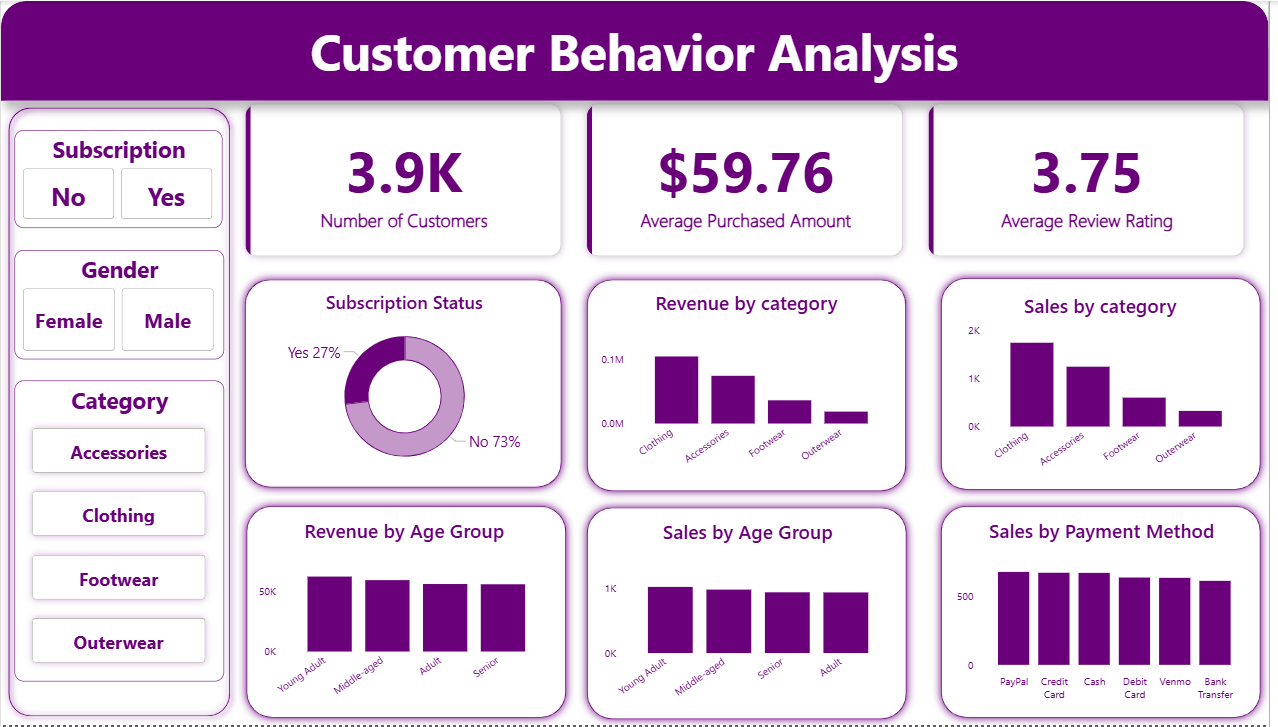

What the dashboard file says about the page in this screenshot:
{"tool":"powerbi","page":{"name":"Page 1","canvas":[1500,856],"ordinal":0},"visuals":[{"type":"cardVisual","fields":{"Data":["public customer.no_of_customer","public customer.Average Purchased Amount","public customer.Average Review Rating"]},"box":[261,93.4,1238.4,236.2],"z":0},{"type":"shape","box":[278.2,320.1,394.6,266.1],"z":0,"group":"g1"},{"type":"group","id":"g1","title":"Group 1","box":[278.2,320.1,394.6,266.1],"z":1000},{"type":"donutChart","title":"Subscription Status","fields":{"Category":["public customer.subscription_status"],"Y":["CountNonNull(public customer.customer_id)"]},"box":[298.9,340.9,354.4,224.8],"z":1000,"group":"g1"},{"type":"shape","box":[0,0,1499.4,118.1],"z":2000},{"type":"group","id":"g2","title":"Group 2","box":[684,320.1,396.3,270.5],"z":3000},{"type":"shape","box":[684,320.1,397.7,270.5],"z":3000,"group":"g2"},{"type":"shape","box":[280.1,586.8,398.2,270.5],"z":4000},{"type":"textbox","box":[322,13.3,855.4,91.4],"z":5000},{"type":"clusteredColumnChart","title":"Revenue by category","fields":{"Y":["Sum(public customer.purchase_amount)"],"Category":["public customer.category"]},"box":[704.6,341.1,354.5,224.8],"z":5000,"group":"g2"},{"type":"shape","box":[1101.2,318.2,398.2,270.5],"z":6000},{"type":"clusteredColumnChart","title":"Revenue by Age Group","fields":{"Y":["Sum(public customer.purchase_amount)"],"Category":["public customer.age_group"]},"box":[299.1,609.7,354.4,224.8],"z":7000},{"type":"shape","box":[0,118,280,738],"z":8000},{"type":"clusteredColumnChart","title":"Sales by category","fields":{"Y":["Count(public customer.customer_id)"],"Category":["public customer.category"]},"box":[1124.1,344.8,354.4,224.8],"z":9000},{"type":"advancedSlicerVisual","title":"Subscription","fields":{"Values":["public customer.subscription_status"]},"box":[15.2,152.4,245.8,116.2],"z":10000},{"type":"advancedSlicerVisual","title":"Gender","fields":{"Values":["public customer.gender"]},"box":[15.2,295.3,247.7,129.6],"z":11000},{"type":"advancedSlicerVisual","title":"Category","fields":{"Values":["public customer.category"]},"box":[15.2,449.6,247.7,356.3],"z":12000},{"type":"shape","box":[684,588.7,398.2,270.5],"z":13000},{"type":"shape","box":[1101.2,586.8,398.2,270.5],"z":14000},{"type":"clusteredColumnChart","title":"Sales by Age Group","fields":{"Category":["public customer.age_group"],"Y":["CountNonNull(public customer.customer_id)"]},"box":[706.8,611.6,354.4,224.8],"z":15000},{"type":"clusteredColumnChart","title":"Sales by Payment Method","fields":{"Category":["public customer.payment_method"],"Y":["CountNonNull(public customer.purchase_amount)"]},"box":[1124.4,610,354.4,225.6],"z":16000}]}

Visuals, with their boxes in screenshot pixels (x1, y1, x2, y2), scaled from the page's 1500x856 canvas onto the 1278x727 screenshot:
cardVisual - public customer.no_of_customer x public customer.Average Purchased Amount: {"left": 222, "top": 79, "right": 1277, "bottom": 280}
shape: {"left": 237, "top": 272, "right": 573, "bottom": 498}
"Group 1" group: {"left": 237, "top": 272, "right": 573, "bottom": 498}
"Subscription Status" donutChart: {"left": 255, "top": 290, "right": 557, "bottom": 480}
shape: {"left": 0, "top": 0, "right": 1277, "bottom": 100}
"Group 2" group: {"left": 583, "top": 272, "right": 920, "bottom": 502}
shape: {"left": 583, "top": 272, "right": 922, "bottom": 502}
shape: {"left": 239, "top": 498, "right": 578, "bottom": 726}
textbox: {"left": 274, "top": 11, "right": 1003, "bottom": 89}
"Revenue by category" clusteredColumnChart: {"left": 600, "top": 290, "right": 902, "bottom": 481}
shape: {"left": 938, "top": 270, "right": 1277, "bottom": 500}
"Revenue by Age Group" clusteredColumnChart: {"left": 255, "top": 518, "right": 557, "bottom": 709}
shape: {"left": 0, "top": 100, "right": 239, "bottom": 726}
"Sales by category" clusteredColumnChart: {"left": 958, "top": 293, "right": 1260, "bottom": 484}
"Subscription" advancedSlicerVisual: {"left": 13, "top": 129, "right": 222, "bottom": 228}
"Gender" advancedSlicerVisual: {"left": 13, "top": 251, "right": 224, "bottom": 361}
"Category" advancedSlicerVisual: {"left": 13, "top": 382, "right": 224, "bottom": 684}
shape: {"left": 583, "top": 500, "right": 922, "bottom": 726}
shape: {"left": 938, "top": 498, "right": 1277, "bottom": 726}
"Sales by Age Group" clusteredColumnChart: {"left": 602, "top": 519, "right": 904, "bottom": 710}
"Sales by Payment Method" clusteredColumnChart: {"left": 958, "top": 518, "right": 1260, "bottom": 710}
